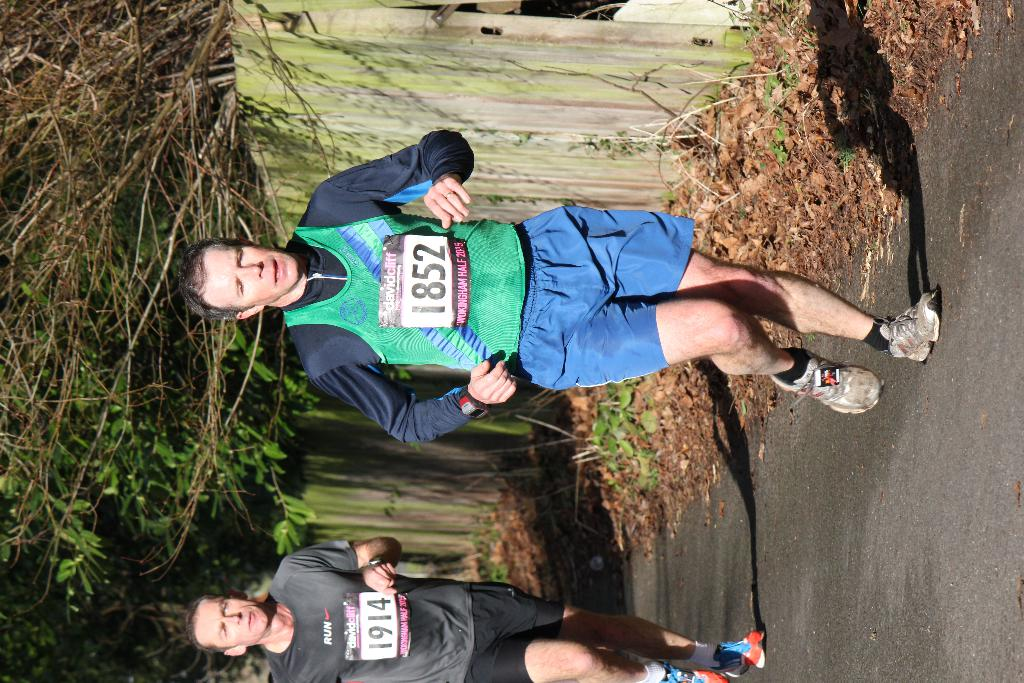Human_hand: (460, 359, 525, 424), (422, 176, 472, 233), (360, 561, 400, 595)
